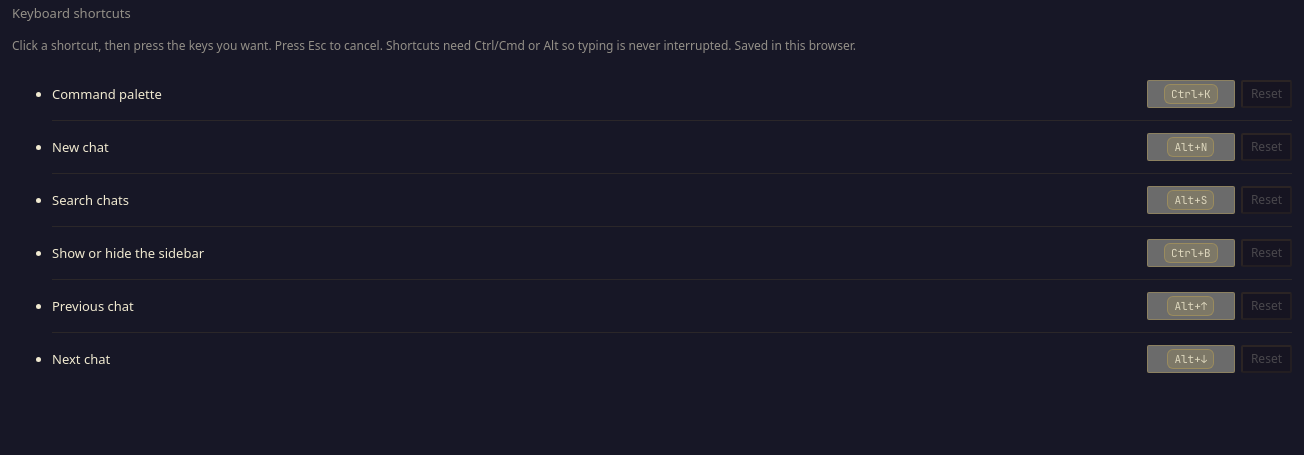
KeybindingSettings › captures a new shortcut, saves it, and lets you reset it
Later steps or results of the test are not shown.
Click the button "Alt+N" at (1191, 147), box [1147,133,1235,161]
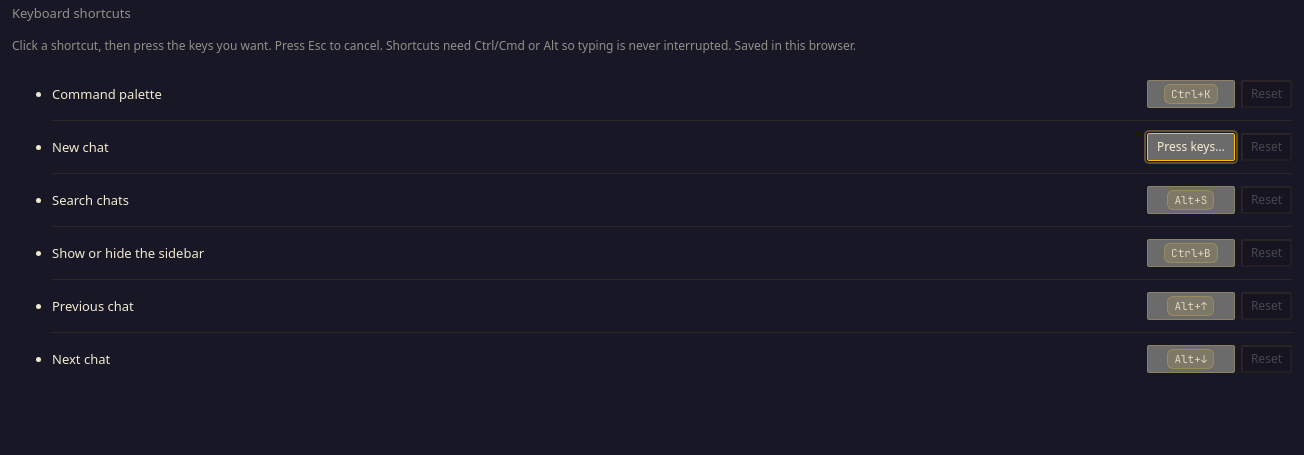
Result: the button "Press keys…" is shown at [1147,133,1235,161]
Press AltLeft
Result: the button "Press keys…" is shown at [1147,133,1235,161]
Press KeyJ
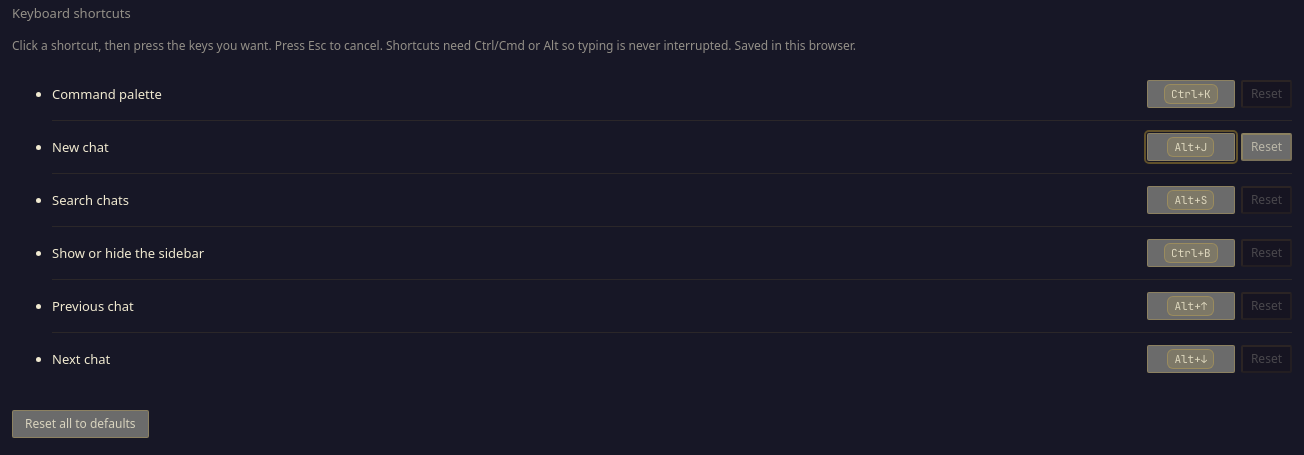
Result: the button "Alt+J" is shown at [1147,133,1235,161]
